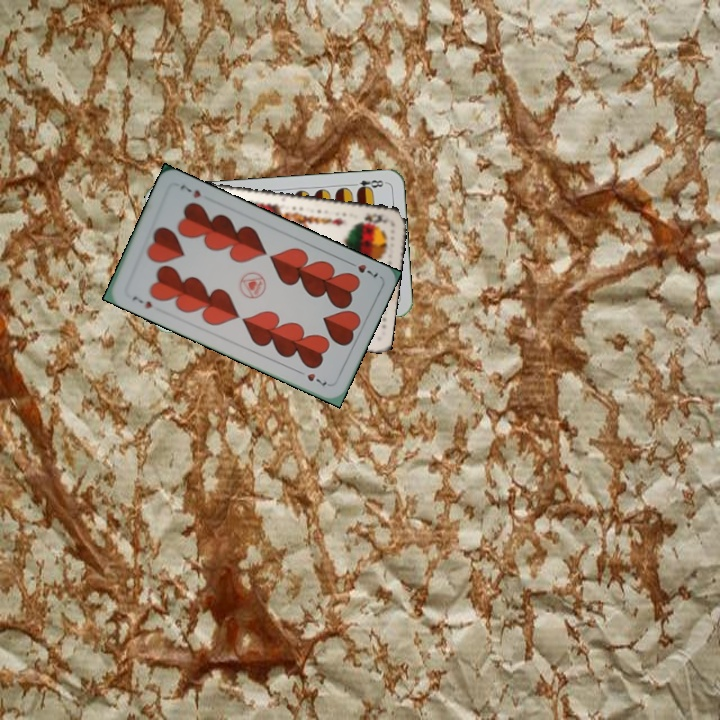E8: (347, 176, 388, 194)
H7: (343, 257, 381, 280), (128, 291, 154, 311)
SK: (355, 209, 391, 226)
